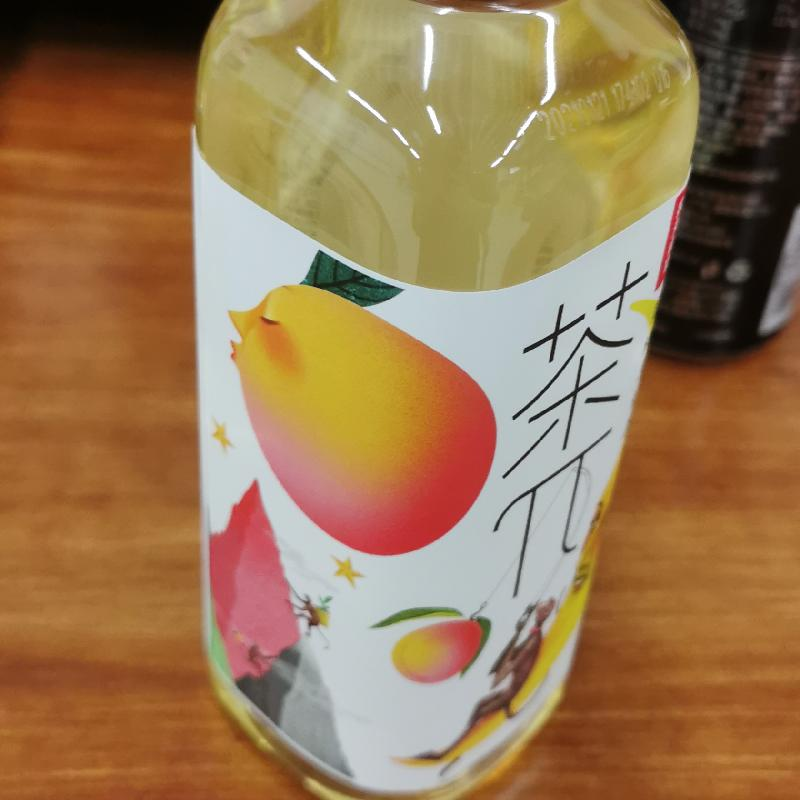bottles: (177, 1, 706, 799)
